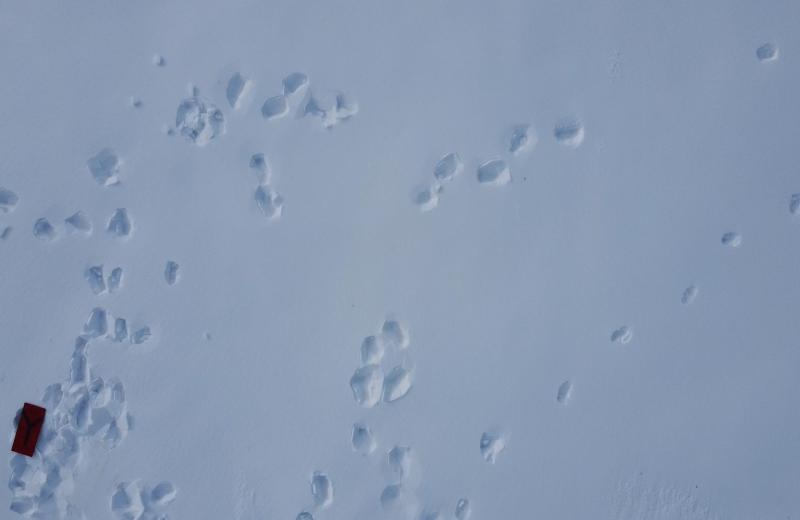Rectangle: (12, 398, 47, 458)
